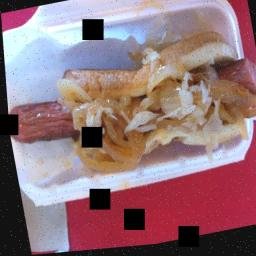hotdog: (3, 30, 256, 186)
